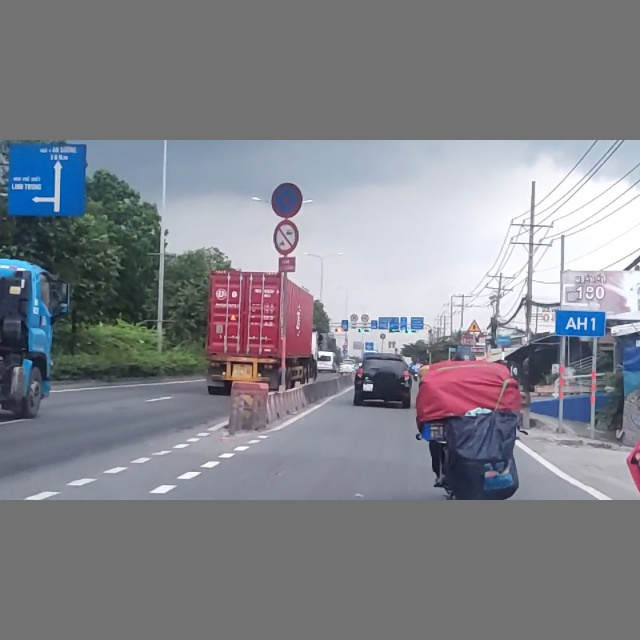P.111: (272, 220, 300, 254)
P.130: (270, 182, 303, 217)
